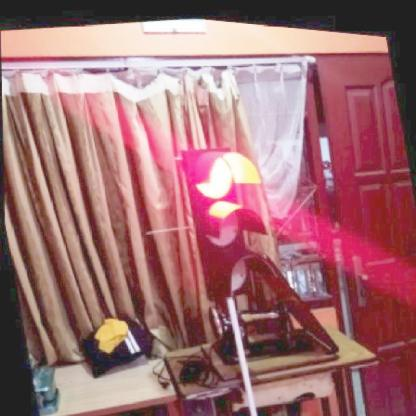Traffic Light -Red-: (180, 138, 279, 303)
